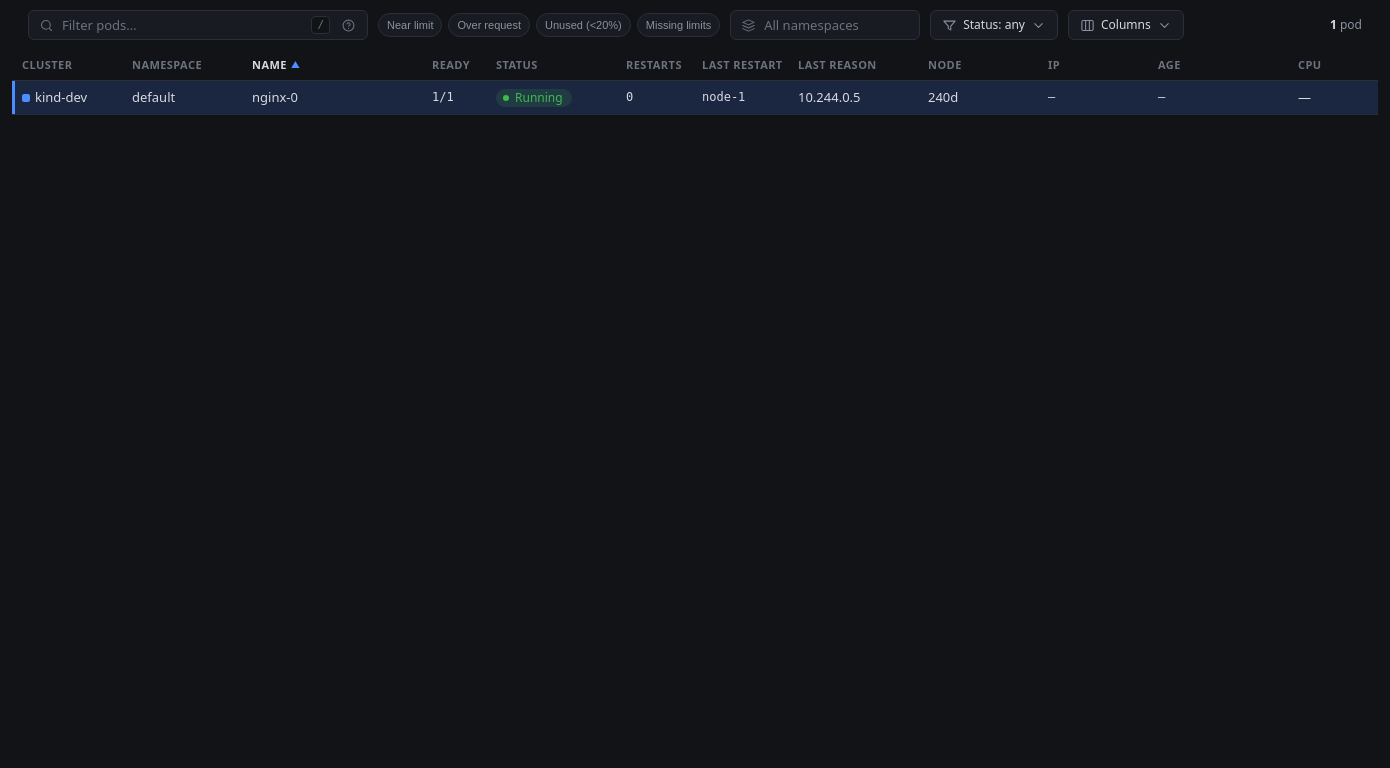
Task R-04: Mount ResourceDrawer from PodTable with mockIPC › shows empty state when detail has no events
Double-click the text "nginx-0" at (695, 98), box x1=12 y1=81 x2=1378 y2=115
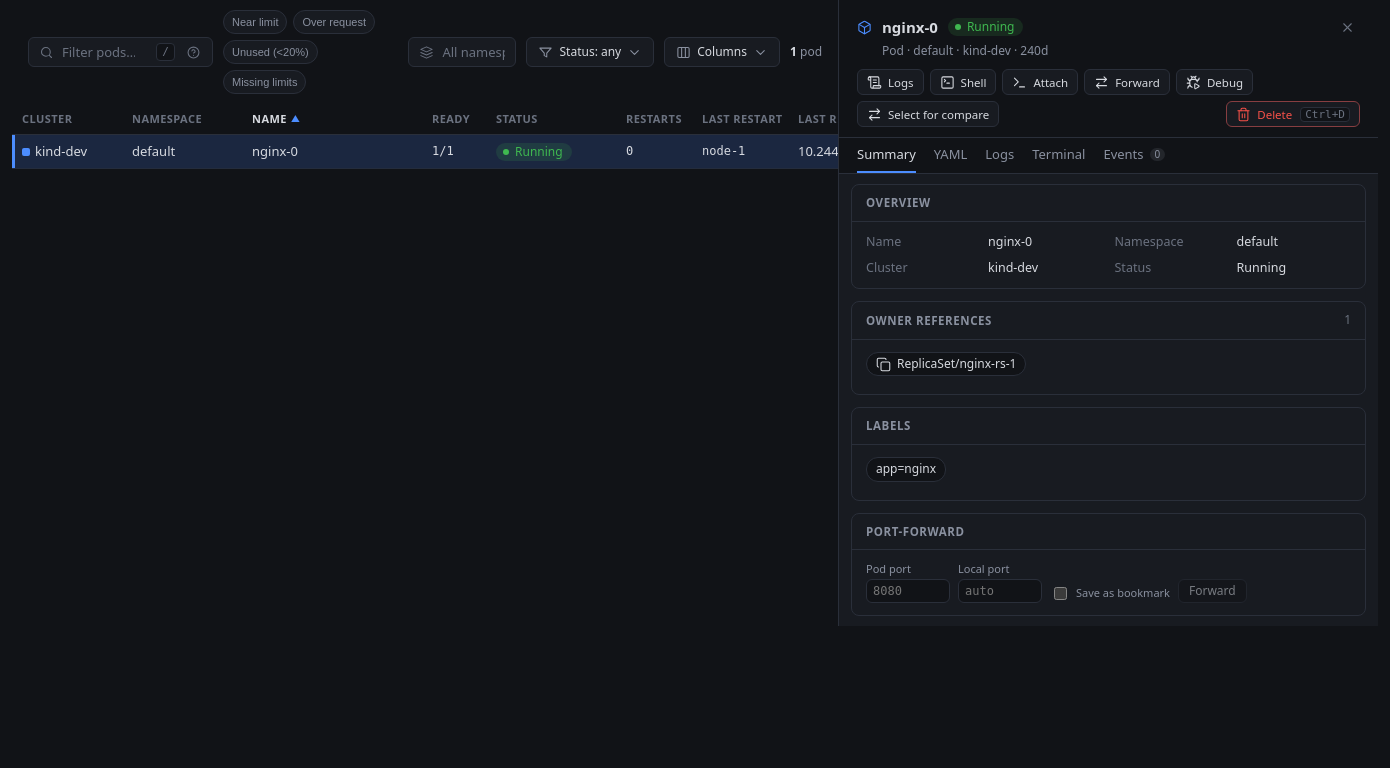
Expected: the element named "Resource details" is shown, x1=838 y1=0 x2=1378 y2=626
Click the tab "Events 0". click: (1134, 159)
box: x1=1103 y1=146 x2=1165 y2=173
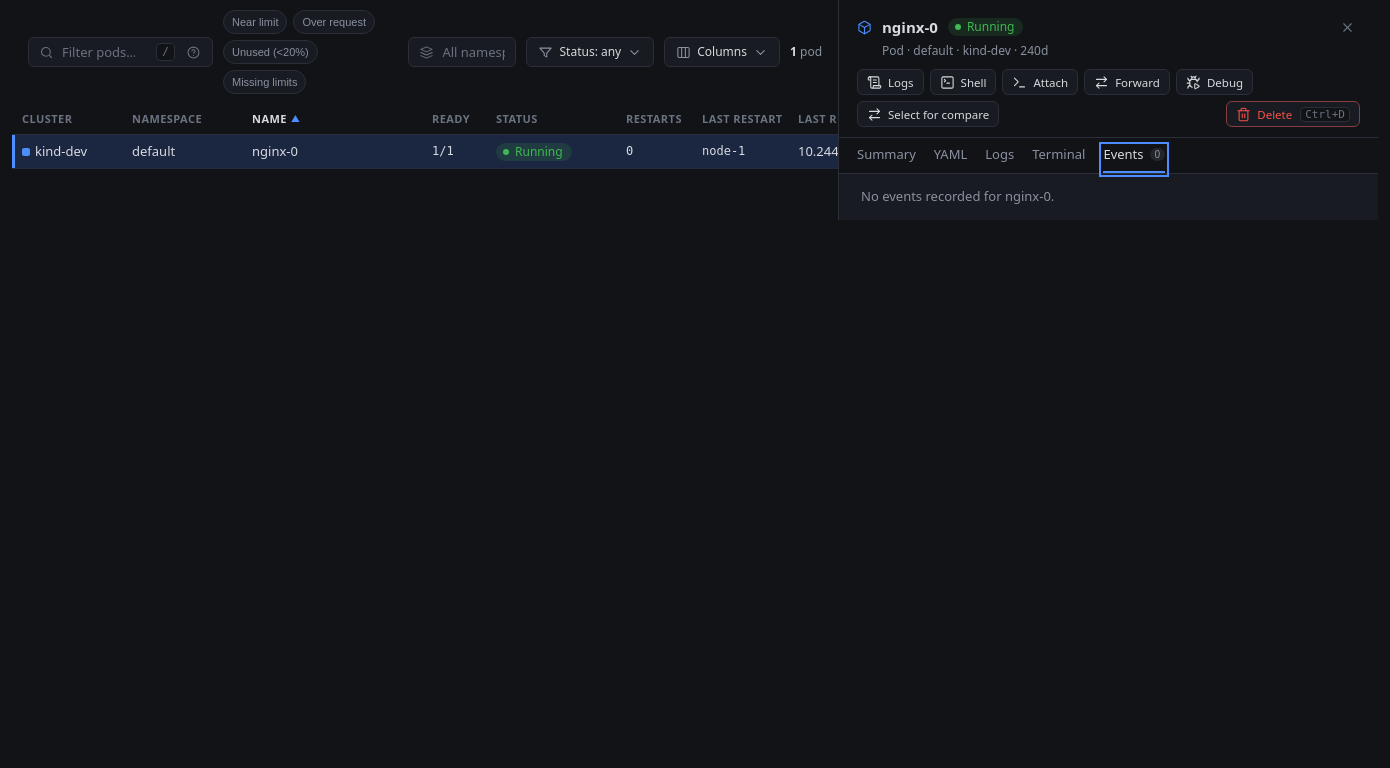
Expected: the text "No events recorded for nginx-0." is shown, x1=861 y1=187 x2=1054 y2=205
